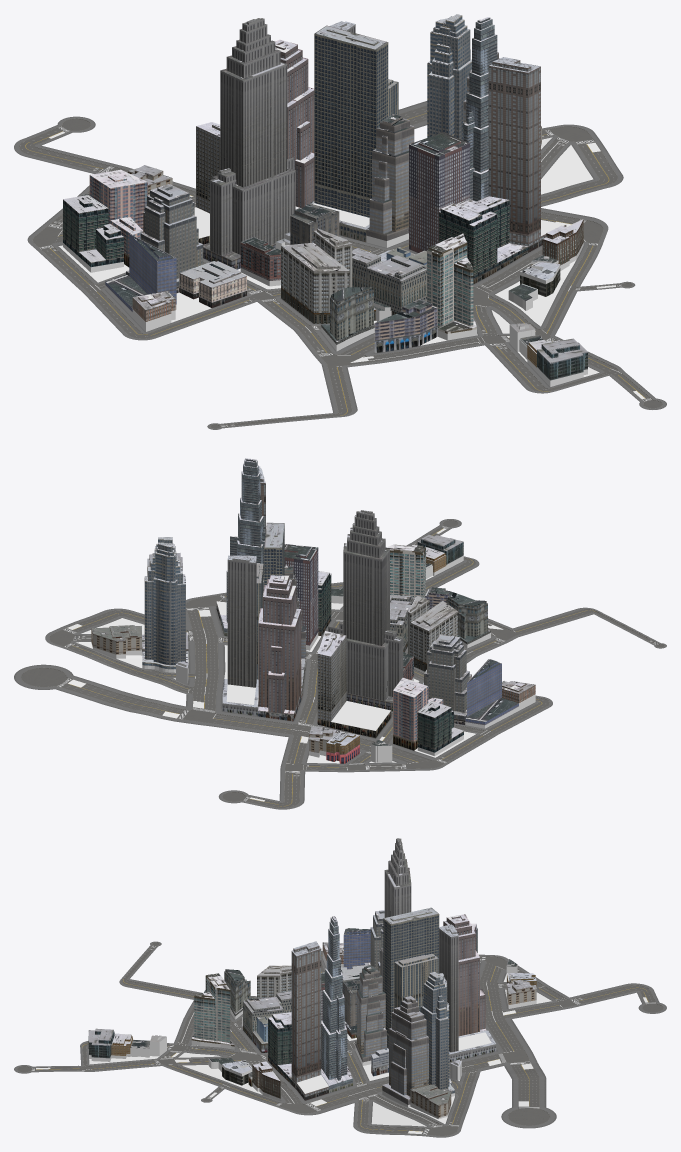
Rendered from imaginary_city_i.glb.
The picture shows the model from 3 angles, top to bottom: view 1: azimuth 30°, elevation 25°; view 2: azimuth 150°, elevation 25°; view 3: azimuth 270°, elevation 25°; orthographic projection. The views are drawn at different scales.
Parts seen in each view (by area): view 1: CityEngineMaterial_31_m, CityEngineMaterial_3_m, CityEngineMaterial_98_m, CityEngineMaterial_1_m, CityEngineMaterial_106_m, CityEngineMaterial_108_m, CityEngineMaterial_115_m, CityEngineMaterial_74_m, CityEngineMaterial_71_m, CityEngineMaterial_112_m, CityEngineMaterial_94_m, CityEngineMaterial_49_m (+37 smaller); view 2: CityEngineMaterial_31_m, CityEngineMaterial_1_m, CityEngineMaterial_3_m, CityEngineMaterial_94_m, CityEngineMaterial_71_m, CityEngineMaterial_4_m, CityEngineMaterial_112_m, CityEngineMaterial_133_m, CityEngineMaterial_108_m, CityEngineMaterial_164_m, CityEngineMaterial_2_m, CityEngineMaterial_115_m (+22 smaller); view 3: CityEngineMaterial_1_m, CityEngineMaterial_3_m, CityEngineMaterial_74_m, CityEngineMaterial_106_m, CityEngineMaterial_31_m, CityEngineMaterial_112_m, CityEngineMaterial_4_m, CityEngineMaterial_98_m, CityEngineMaterial_94_m, CityEngineMaterial_71_m, CityEngineMaterial_79_m, CityEngineMaterial_2_m (+17 smaller).
Part boxes in pixels (left/top/right/bottom): CityEngineMaterial_31_m: left=203, top=18, right=355, bottom=260; CityEngineMaterial_3_m: left=14, top=101, right=666, bottom=429; CityEngineMaterial_98_m: left=314, top=30, right=388, bottom=235; CityEngineMaterial_1_m: left=19, top=106, right=648, bottom=424; CityEngineMaterial_106_m: left=488, top=60, right=566, bottom=246; CityEngineMaterial_108_m: left=63, top=197, right=528, bottom=278; CityEngineMaterial_115_m: left=409, top=141, right=469, bottom=252; CityEngineMaterial_74_m: left=366, top=53, right=498, bottom=240; CityEngineMaterial_71_m: left=427, top=15, right=471, bottom=139; CityEngineMaterial_112_m: left=462, top=18, right=497, bottom=201; CityEngineMaterial_94_m: left=275, top=41, right=314, bottom=208; CityEngineMaterial_49_m: left=281, top=229, right=352, bottom=312; CityEngineMaterial_31_m: left=222, top=511, right=403, bottom=711; CityEngineMaterial_1_m: left=63, top=527, right=645, bottom=807; CityEngineMaterial_3_m: left=14, top=519, right=666, bottom=809; CityEngineMaterial_94_m: left=258, top=576, right=301, bottom=713; CityEngineMaterial_71_m: left=142, top=539, right=188, bottom=669; CityEngineMaterial_4_m: left=21, top=520, right=663, bottom=801; CityEngineMaterial_112_m: left=220, top=458, right=265, bottom=632; CityEngineMaterial_133_m: left=424, top=636, right=469, bottom=720; CityEngineMaterial_108_m: left=318, top=573, right=463, bottom=752; CityEngineMaterial_164_m: left=317, top=636, right=346, bottom=721; CityEngineMaterial_2_m: left=21, top=520, right=664, bottom=807; CityEngineMaterial_115_m: left=284, top=548, right=318, bottom=645; CityEngineMaterial_1_m: left=36, top=952, right=654, bottom=1133; CityEngineMaterial_3_m: left=14, top=941, right=666, bottom=1137; CityEngineMaterial_74_m: left=355, top=967, right=428, bottom=1104; CityEngineMaterial_106_m: left=291, top=946, right=328, bottom=1096; CityEngineMaterial_31_m: left=380, top=839, right=496, bottom=1058; CityEngineMaterial_112_m: left=321, top=917, right=352, bottom=1089; CityEngineMaterial_4_m: left=17, top=942, right=663, bottom=1135; CityEngineMaterial_98_m: left=383, top=912, right=439, bottom=1048; CityEngineMaterial_94_m: left=443, top=916, right=485, bottom=1036; CityEngineMaterial_71_m: left=420, top=973, right=454, bottom=1093; CityEngineMaterial_79_m: left=191, top=975, right=234, bottom=1046; CityEngineMaterial_2_m: left=17, top=942, right=663, bottom=1135.
Size of the model in its own units: 80.05 by 31.58 by 106.
100 materials, 99 textured.
